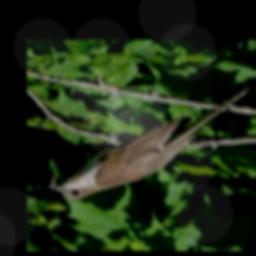Cuckoo: (49, 84, 251, 201)
